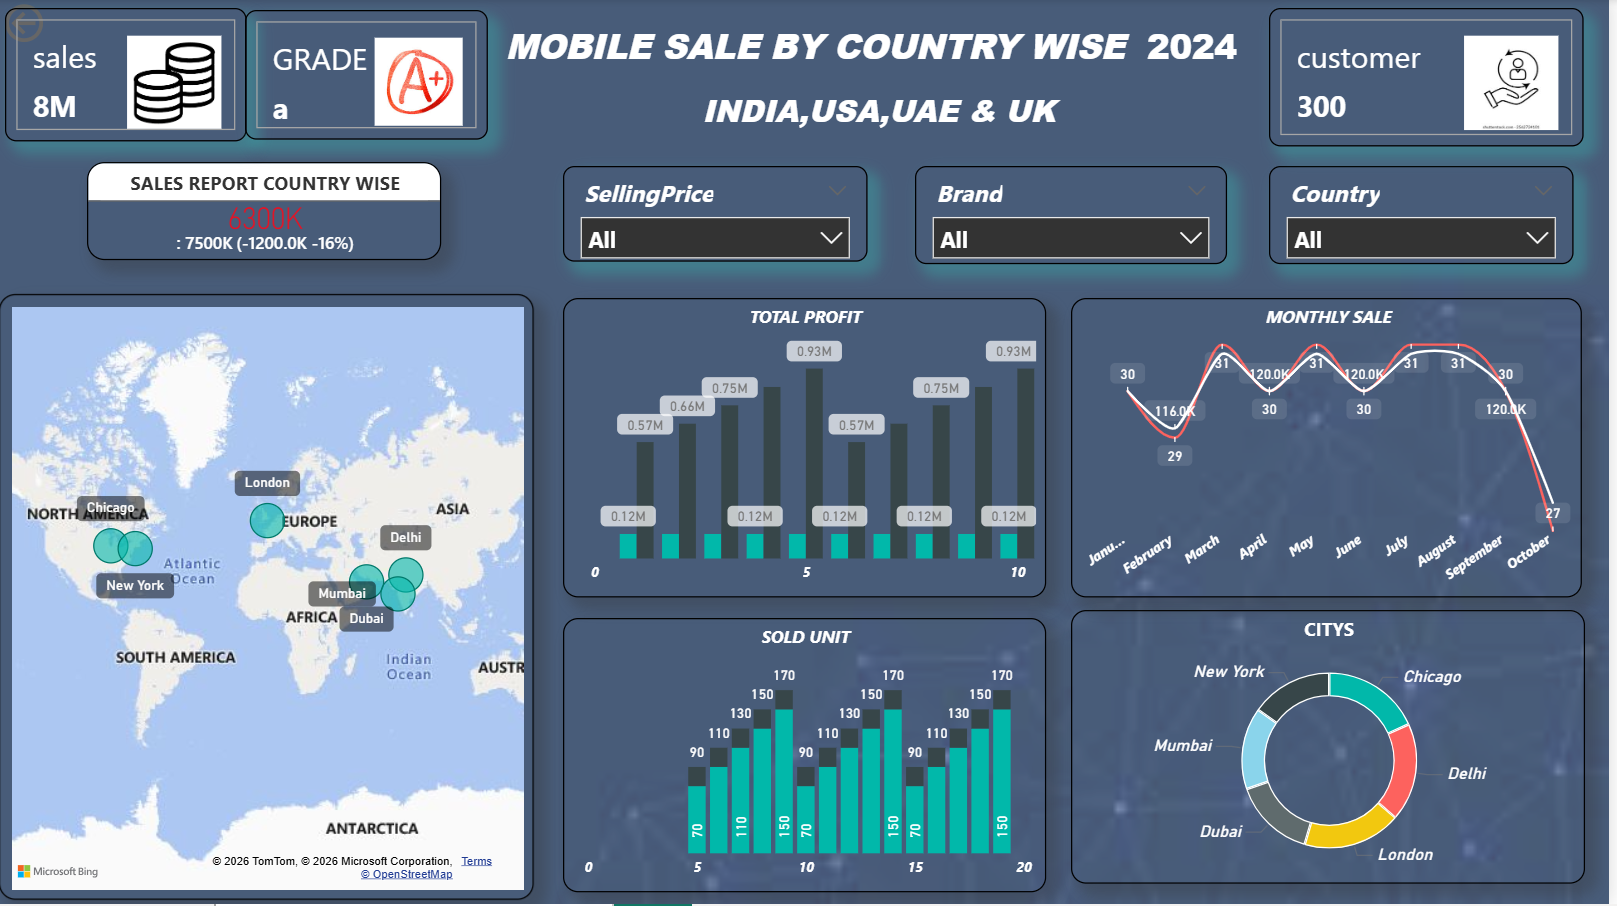

The dashboard page shown, as its layout file describes it:
{"tool":"powerbi","page":{"name":"mobile sales by each country","canvas":[1280,720],"ordinal":0},"visuals":[{"type":"map","fields":{"Category":["Mobile_Sales.City"],"Size":["Sum(Mobile_Sales.SellingPrice)"]},"box":[0,235,425,481.7],"z":0},{"type":"columnChart","title":"SOLD UNIT","fields":{"Category":["Mobile_Sales.Discount"],"Y":["Sum(Mobile_Sales.UnitsSold)","CountNonNull(Mobile_Sales.OneYearWarranty)"]},"box":[448,492,384,218],"z":1000},{"type":"donutChart","title":"CITYS","fields":{"Y":["Sum(Mobile_Sales.UnitsSold)"],"Category":["Mobile_Sales.City"]},"box":[851.9,486.4,408.5,217.7],"z":2000},{"type":"lineChart","title":"MONTHLY SALE","fields":{"Category":["dates.dates.Variation.Date Hierarchy.Month","dates.dates.Variation.Date Hierarchy.Day"],"Y":["CountNonNull(Mobile_Sales.Brand)"],"Y2":["Sum(Mobile_Sales.Profit)"]},"box":[852,238,406,238],"z":3000},{"type":"kpi","title":"SALES REPORT COUNTRY WISE","fields":{"Indicator":["Sum(Mobile_Sales.CostPrice)"],"TrendLine":["Mobile_Sales.Profit"],"Goal":["Sum(Mobile_Sales.SellingPrice)"]},"box":[69.9,130.3,281.3,77.9],"z":4000},{"type":"slicer","fields":{"Values":["Mobile_Sales.SellingPrice"]},"box":[448,134,242,76],"z":5000},{"type":"slicer","fields":{"Values":["Mobile_Sales.Brand"]},"box":[728,134,248,78],"z":6000},{"type":"slicer","fields":{"Values":["Mobile_Sales.Country"]},"box":[1010,134,242,78],"z":7000},{"type":"textbox","box":[371.9,14.3,642.1,52.5],"z":8000},{"type":"lineClusteredColumnComboChart","title":"TOTAL PROFIT","fields":{"Category":["Mobile_Sales.UnitsSold","Mobile_Sales.Country"],"Y":["Sum(Mobile_Sales.Profit)","Mobile_Sales.sumof"]},"box":[448,238,384,238],"z":9000},{"type":"textbox","box":[424,66,550,44],"z":10000},{"type":"actionButton","box":[0,0,100,40],"z":11000},{"type":"cardVisual","fields":{"Data":["Mobile_Sales.countasell"]},"box":[1010,8,250,110],"z":12000},{"type":"cardVisual","fields":{"Data":["Mobile_Sales.sumof"]},"box":[4,8,192,106],"z":13000},{"type":"cardVisual","fields":{"Data":["Mobile_Sales.grade"]},"box":[196,10,193,103],"z":14000}]}

Visuals, with their boxes in screenshot pixels (x1, y1, x2, y2), scaled from the page's 1280x720 canvas onto the 1617x906 screenshot:
map - Mobile_Sales.City x Sum(Mobile_Sales.SellingPrice): (left=0, top=296, right=537, bottom=902)
"SOLD UNIT" columnChart: (left=566, top=619, right=1051, bottom=893)
"CITYS" donutChart: (left=1076, top=612, right=1592, bottom=886)
"MONTHLY SALE" lineChart: (left=1076, top=299, right=1589, bottom=599)
"SALES REPORT COUNTRY WISE" kpi: (left=88, top=164, right=444, bottom=262)
slicer - Mobile_Sales.SellingPrice: (left=566, top=169, right=872, bottom=264)
slicer - Mobile_Sales.Brand: (left=920, top=169, right=1233, bottom=267)
slicer - Mobile_Sales.Country: (left=1276, top=169, right=1582, bottom=267)
textbox: (left=470, top=18, right=1281, bottom=84)
"TOTAL PROFIT" lineClusteredColumnComboChart: (left=566, top=299, right=1051, bottom=599)
textbox: (left=536, top=83, right=1230, bottom=138)
actionButton: (left=0, top=0, right=126, bottom=50)
cardVisual - Mobile_Sales.countasell: (left=1276, top=10, right=1592, bottom=148)
cardVisual - Mobile_Sales.sumof: (left=5, top=10, right=248, bottom=143)
cardVisual - Mobile_Sales.grade: (left=248, top=13, right=491, bottom=142)
